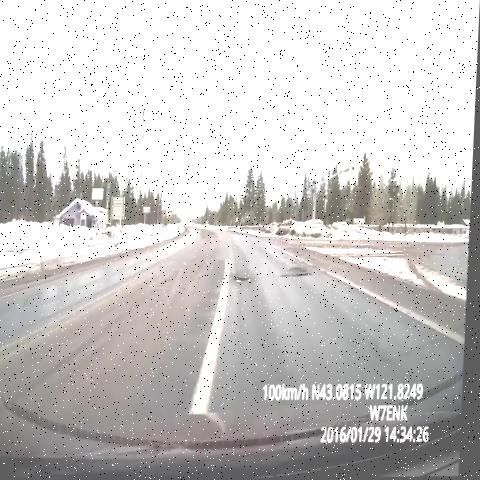pothole: (278, 259, 317, 288), (231, 265, 257, 292)
